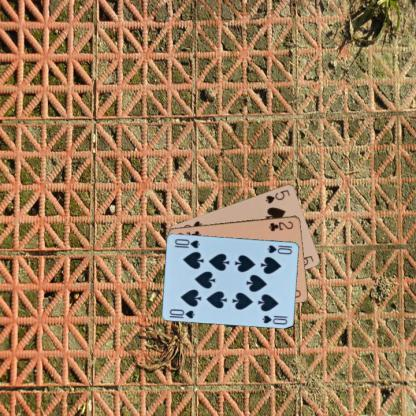10s: (167, 306, 196, 320), (264, 242, 294, 255)
2c: (266, 218, 295, 233)
5s: (263, 187, 291, 205)
